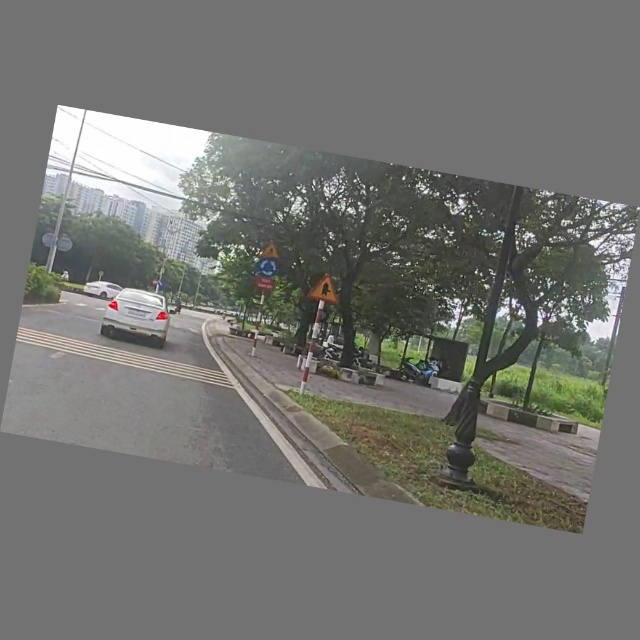P.102: (151, 279, 158, 287)
R.302a: (158, 281, 165, 289)
R.303: (257, 259, 280, 279)
W.207: (307, 272, 346, 307)
W.224: (261, 239, 283, 259)
